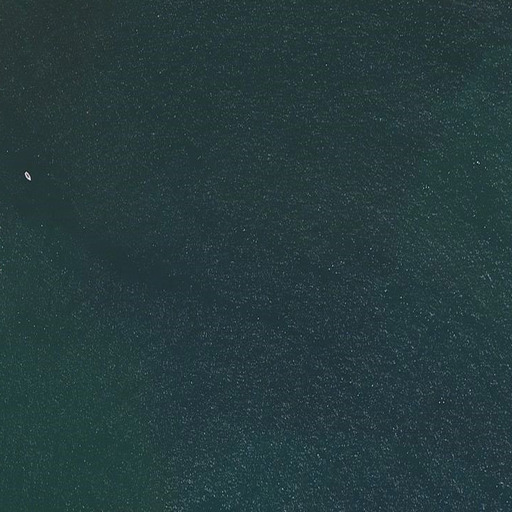ship: (22, 170, 31, 183)
